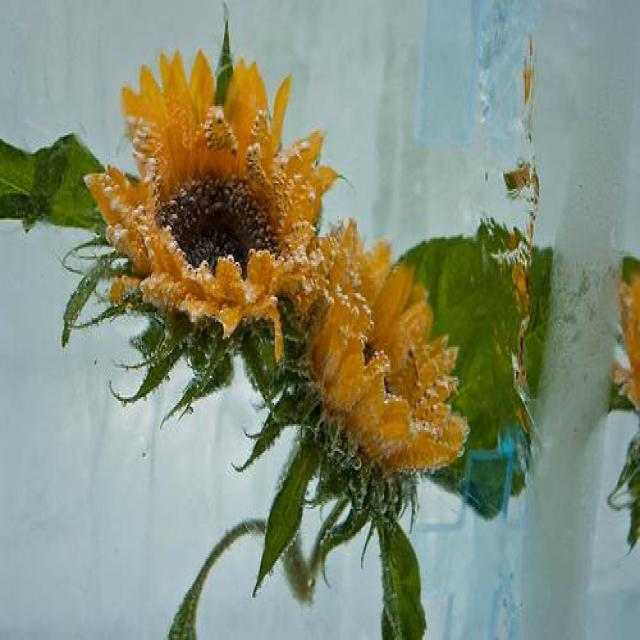sunflower: (84, 51, 336, 356), (296, 217, 470, 477)
